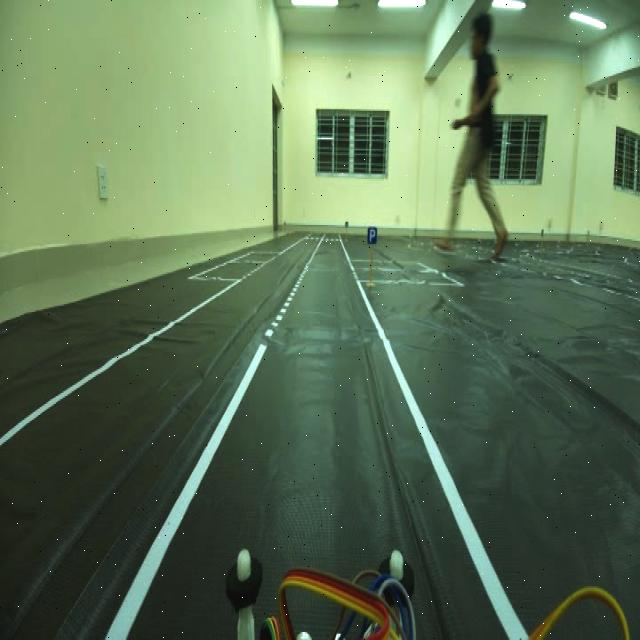parking: (362, 217, 382, 252)
